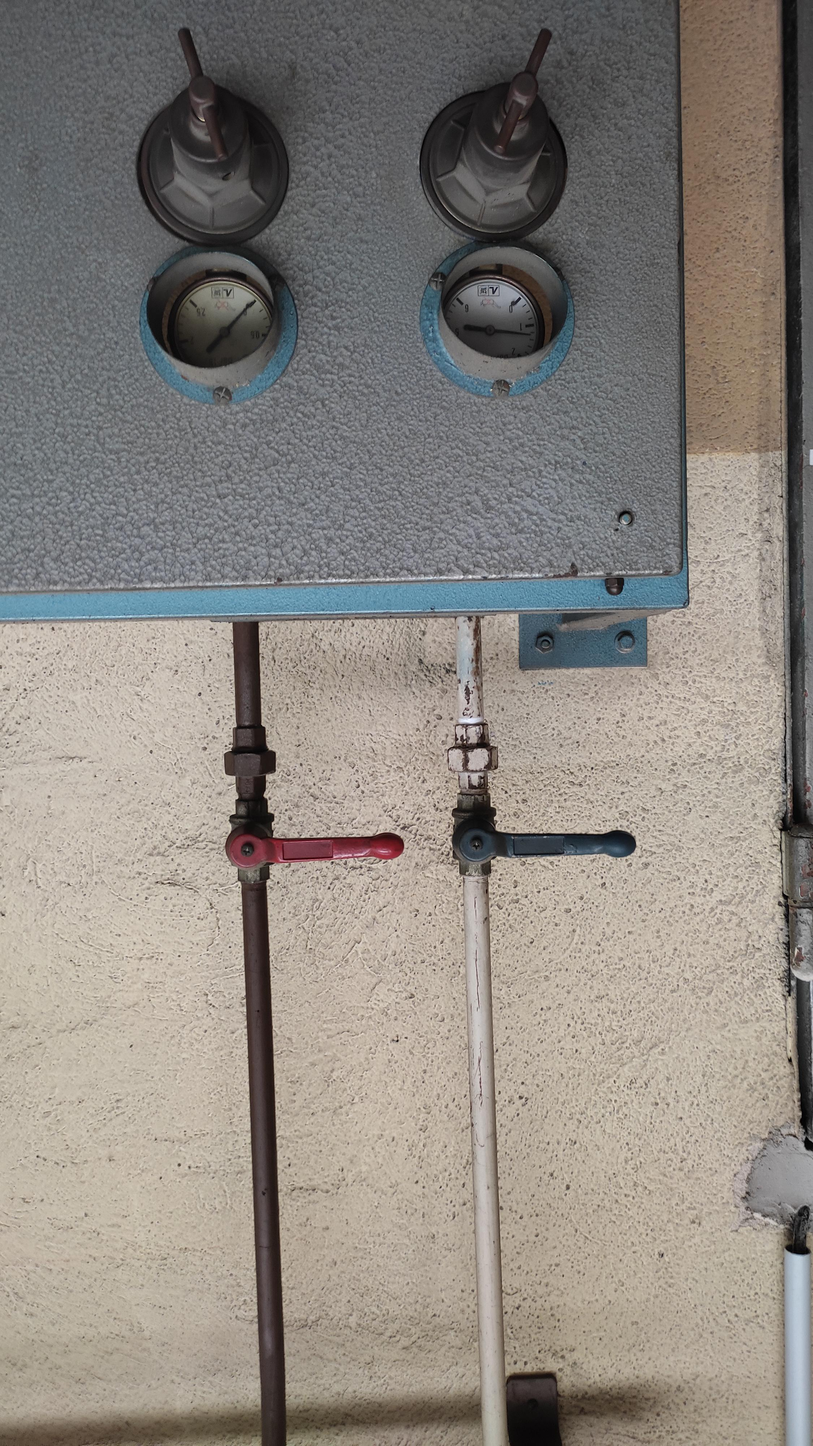closed valve: (444, 788, 639, 877), (225, 793, 402, 885)
